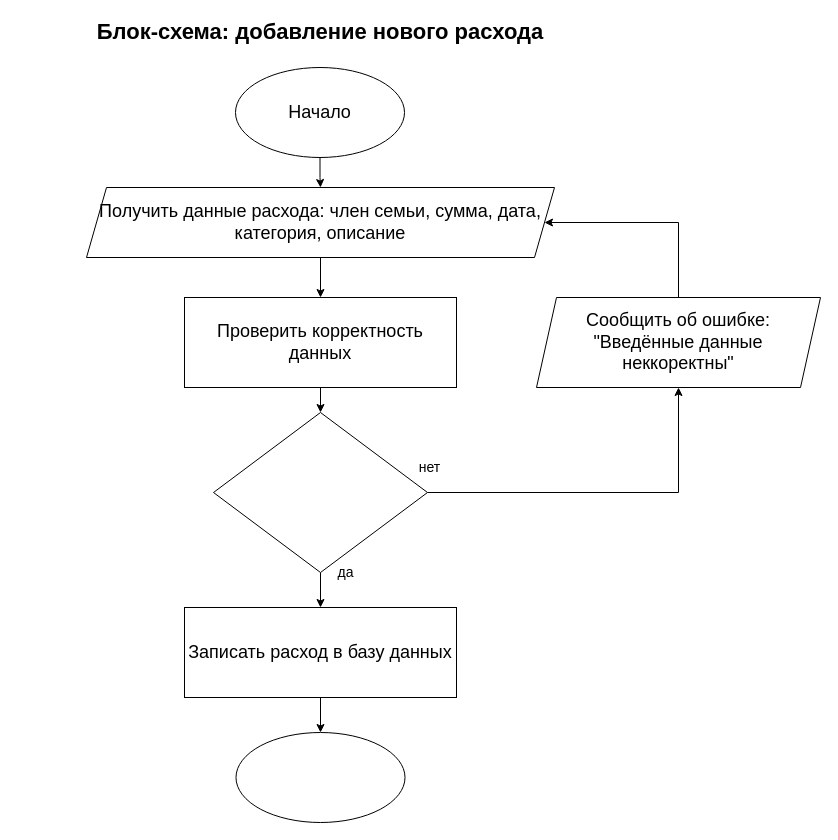
Image size: 838x840. Some labels were removed from this diagram. Each missing label, with the centre of its shape:
"Данные корректны?" goes at (320,492).
"Конец" goes at (320,777).
